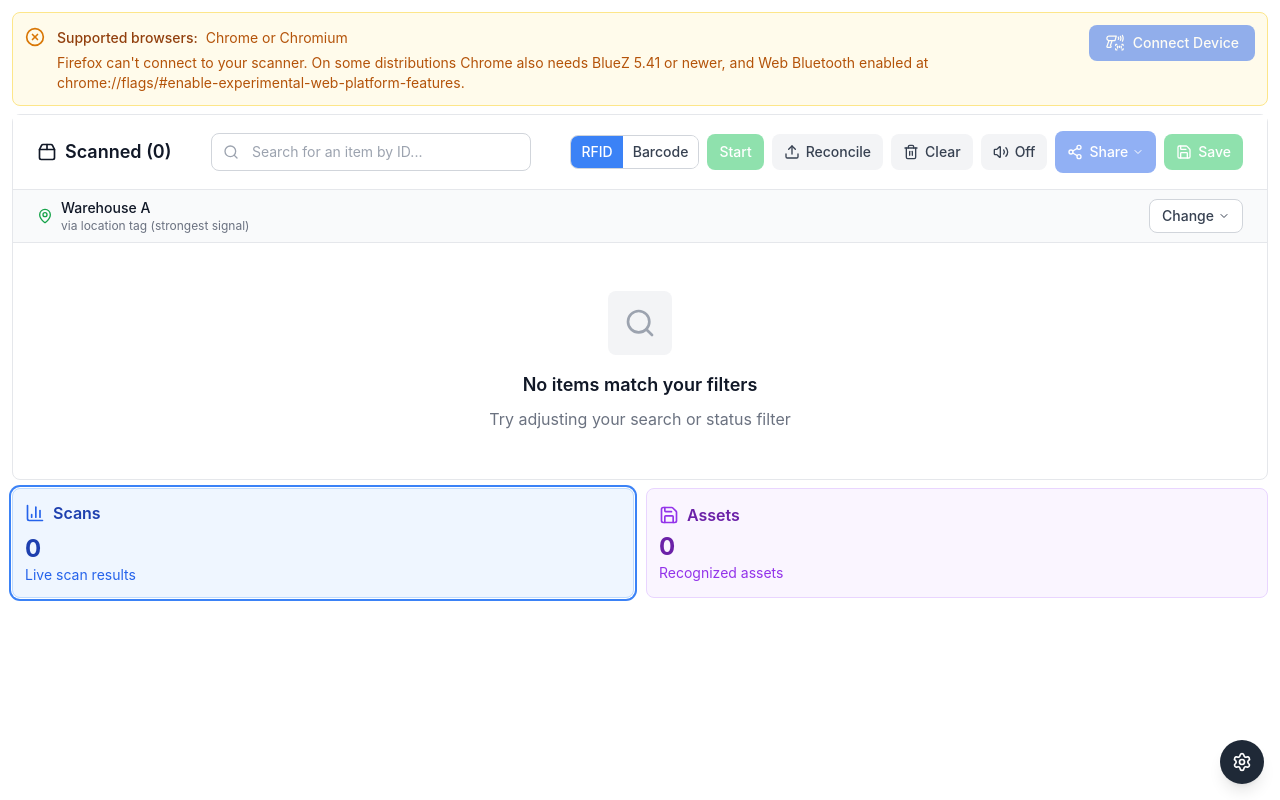
Test: InventoryScreen — scan overrides manual (TRA-819) › a new scanned location tag overrides a prior manual selection
Check: the text "Warehouse A" is shown, box [61, 199, 150, 216]
# User manually picks Office C via the dropdown
Click the button "Change" at point(1196, 216), box [1149, 199, 1243, 233]
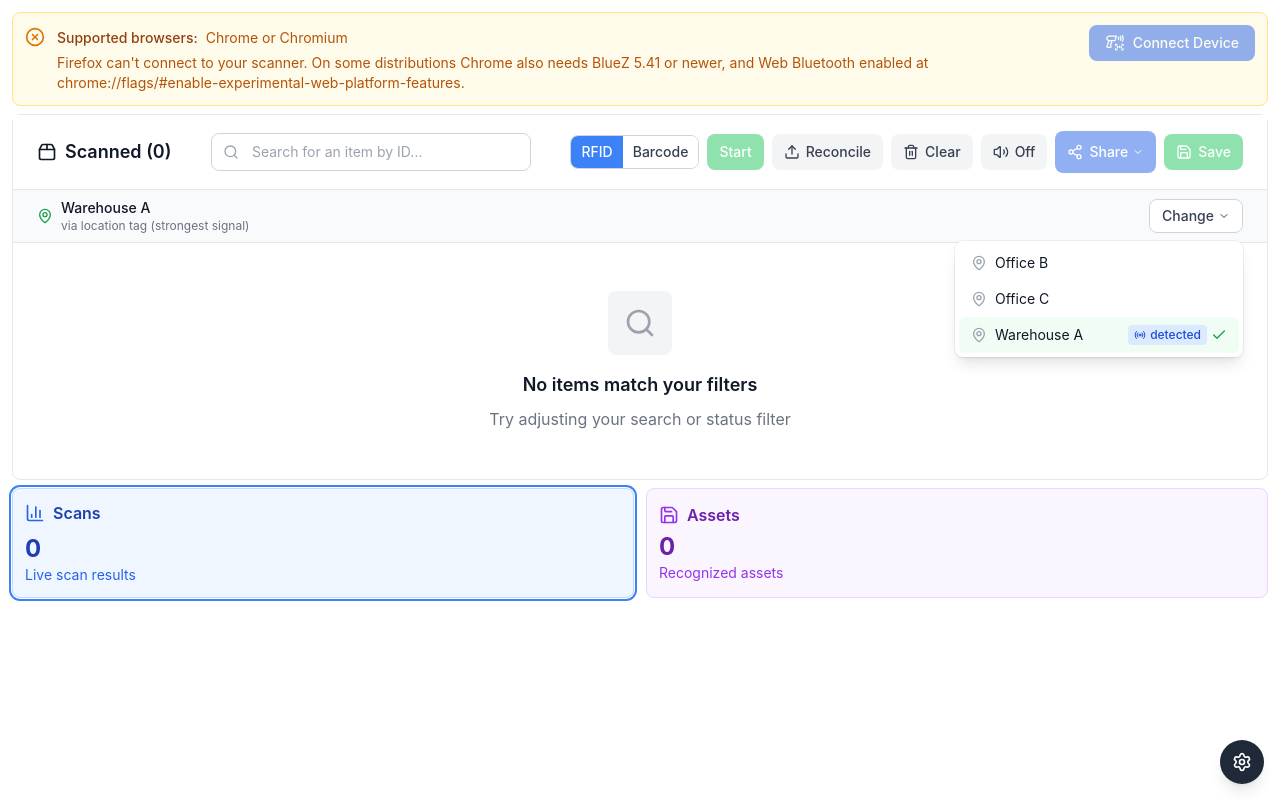
Click the menu item "Office C" at point(1022, 298), box [959, 281, 1239, 317]
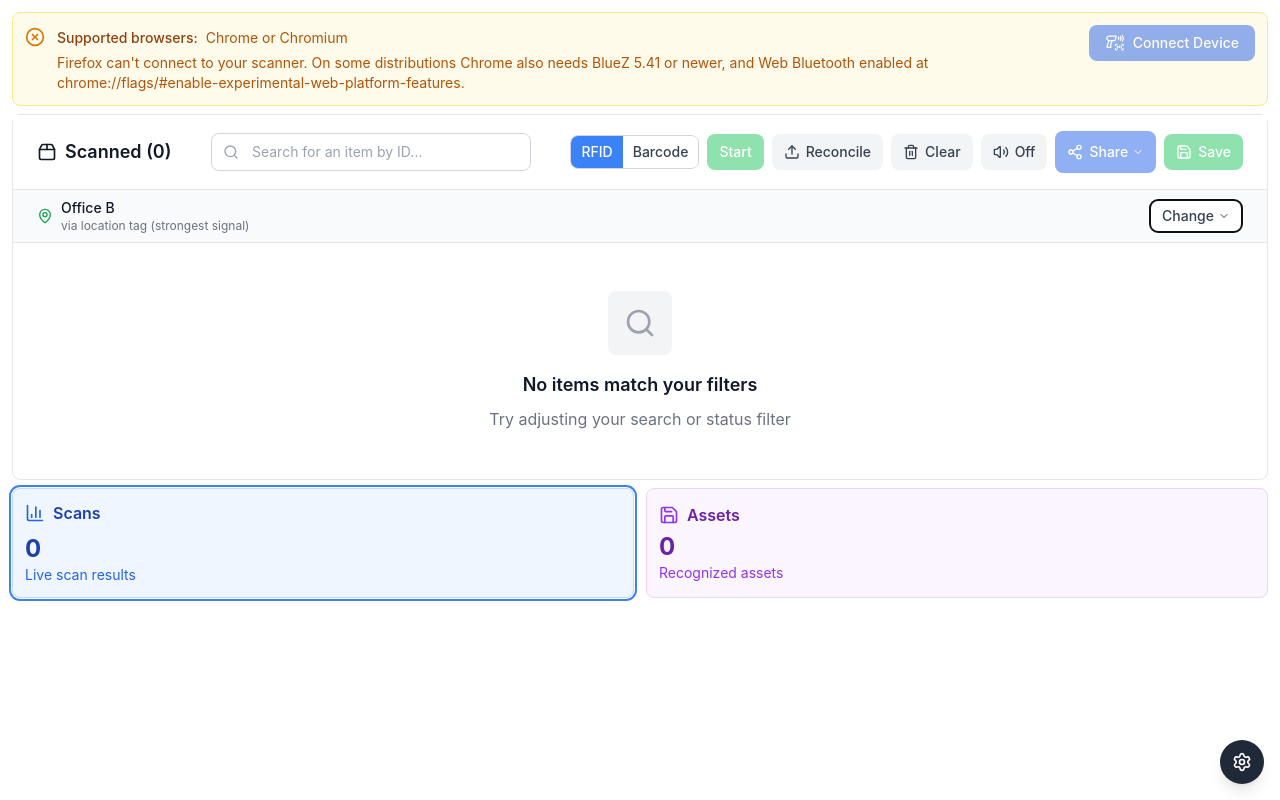
Check: the text "via location tag (strongest signal)" is shown, box [61, 218, 250, 234]
Check: the text "Office B" is shown, box [61, 199, 115, 216]
